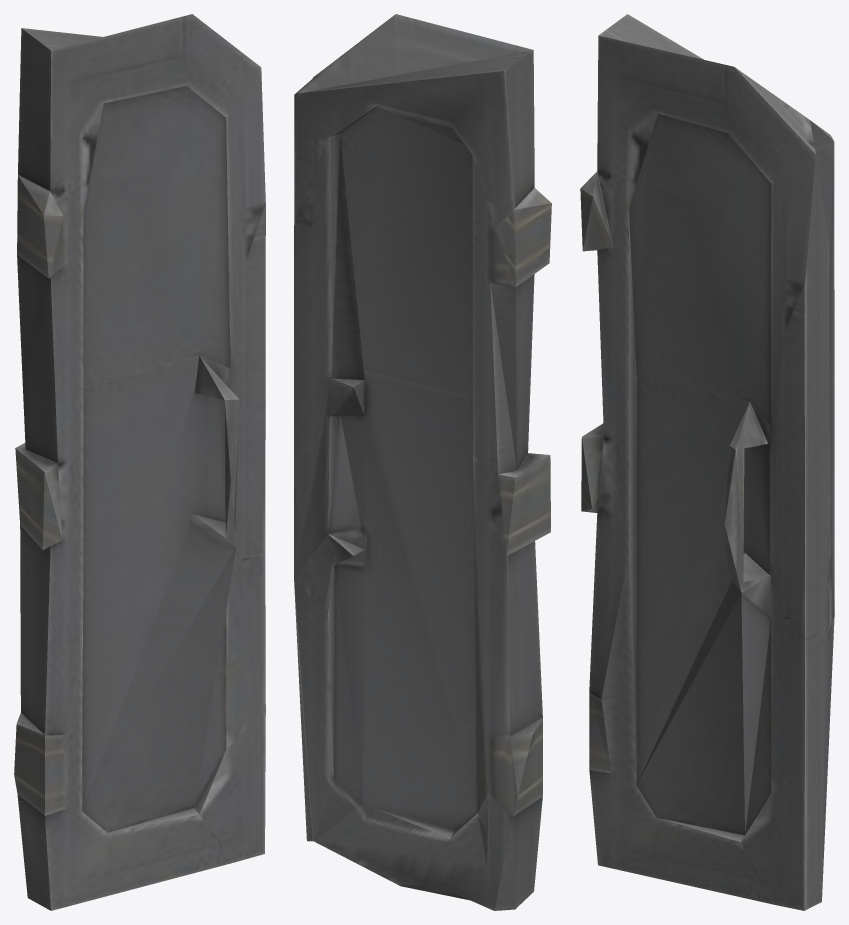
The model's file is imperial_alloy_foundry__entrance_door_leaf_lod2.glb.
The picture shows the model from 3 angles, left to right: view 1: azimuth 30°, elevation 25°; view 2: azimuth 150°, elevation 25°; view 3: azimuth 330°, elevation 25°; orthographic projection. The views are drawn at different scales.
Parts seen in each view (by area): view 1: mesh_node; view 2: mesh_node; view 3: mesh_node.
Boxes of the visible parts, box(x1,y1,x2,y2) form: mesh_node: box(14, 14, 265, 910); mesh_node: box(294, 14, 551, 910); mesh_node: box(580, 14, 834, 910).
Size of the model in its own units: 0.7947 by 2.78 by 0.3327.
1 material, 1 textured.
